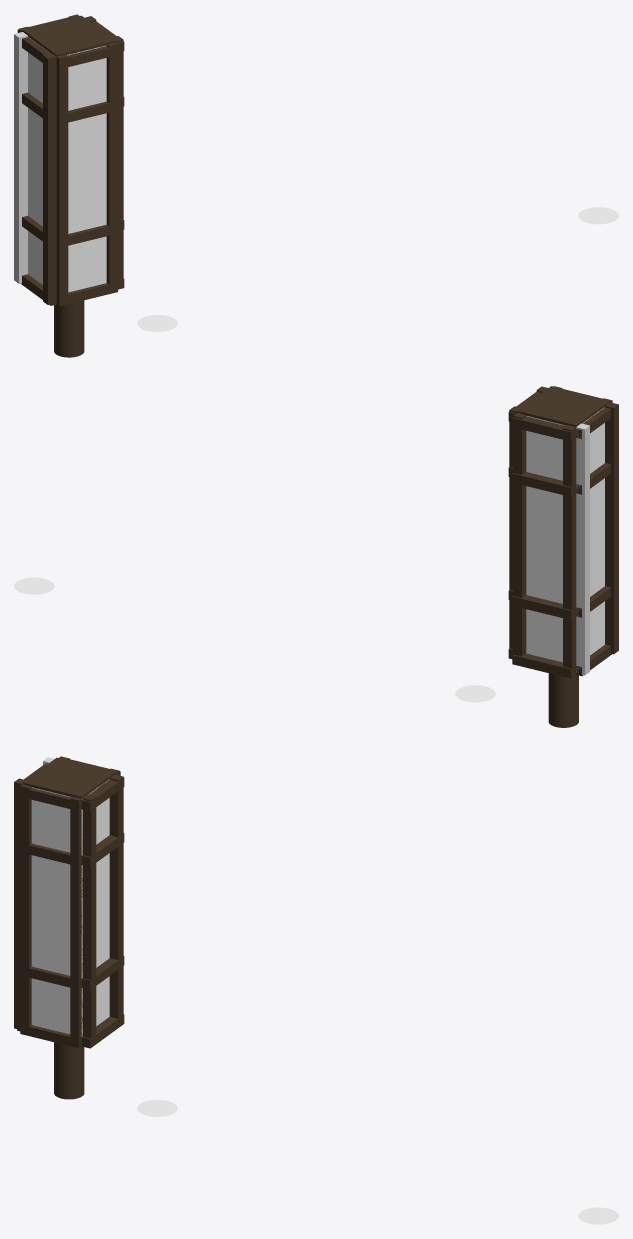
Rendered from siA.glb.
3 renders of one model, top to bottom at view 1: azimuth 30°, elevation 25°; view 2: azimuth 150°, elevation 25°; view 3: azimuth 330°, elevation 25°, orthographic.
Parts seen in each view (by area): view 1: d.001, Cube, Cube.004, Cube.002, Cube.007, Cube.014, Cylinder, Cube.008, Cylinder.001, Cube.010, Cube.011, Cube.021 (+1 smaller); view 2: d.001, Cube.004, Cube, Cube.003, Cube.006, Cube.014, Cylinder, Cylinder.001, Cube.001, Cube.018, Cube.012, Cube.024 (+1 smaller); view 3: d.001, Cube.008, Cube.001, Cube.007, Cube.002, Cube.014, Cube, Cylinder, Cylinder.001.
Boxes of the visible parts, x1,y1,x2,y2 form: d.001: (28, 37, 106, 292); Cube: (43, 53, 56, 304); Cube.004: (14, 32, 27, 283); Cube.002: (56, 54, 68, 304); Cube.007: (106, 42, 118, 292); Cube.014: (22, 15, 115, 56); Cylinder: (54, 300, 84, 357); Cube.008: (112, 36, 123, 279); Cylinder.001: (137, 207, 618, 331); Cube.010: (56, 283, 117, 306); Cube.011: (56, 46, 109, 68); Cube.021: (56, 101, 109, 124); d.001: (526, 407, 604, 662); Cube.004: (576, 423, 589, 675); Cube: (605, 402, 618, 654); Cube.003: (563, 425, 576, 675); Cube.006: (513, 413, 526, 656); Cube.014: (517, 386, 610, 426); Cylinder: (548, 673, 578, 727); Cylinder.001: (14, 577, 495, 702); Cube.001: (509, 406, 520, 649); Cube.018: (512, 416, 576, 441); Cube.012: (512, 653, 576, 678); Cube.024: (512, 595, 576, 619); d.001: (31, 779, 109, 1036); Cube.008: (82, 794, 96, 1045); Cube.001: (109, 774, 123, 1025); Cube.007: (70, 796, 82, 1046); Cube.002: (20, 784, 31, 1034); Cube.014: (22, 757, 115, 799); Cube: (14, 778, 25, 1029); Cylinder: (54, 1042, 84, 1099); Cylinder.001: (137, 1099, 618, 1224).
Bounding box in the file's own units: 19.9 × 10.26 × 2.45.
